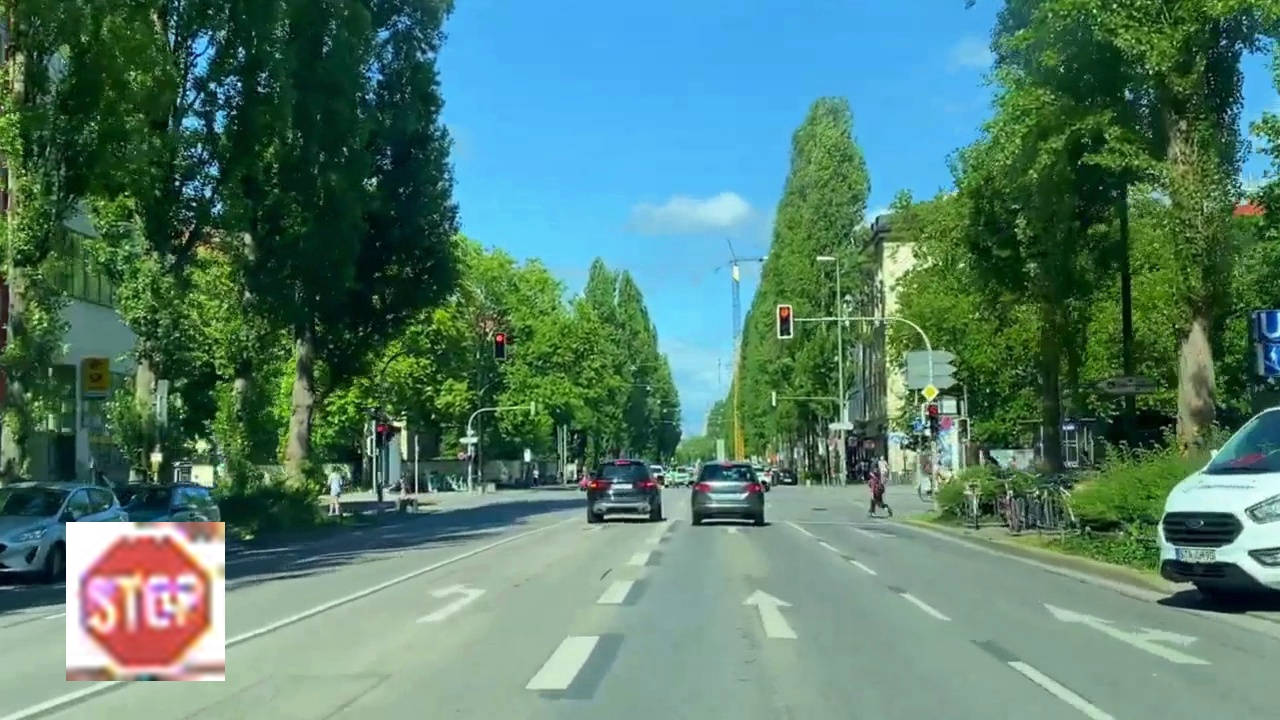Stop: (66, 522, 225, 681)
